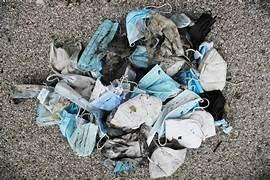Mask: (147, 90, 200, 144), (55, 81, 105, 136), (78, 20, 117, 76), (59, 103, 97, 155), (165, 110, 215, 147), (145, 13, 183, 61), (110, 94, 161, 128), (134, 65, 180, 101), (101, 131, 147, 158), (198, 48, 226, 90), (55, 81, 94, 111), (47, 74, 94, 98), (149, 147, 185, 177), (165, 119, 203, 147), (126, 8, 153, 46), (50, 41, 81, 73), (90, 79, 122, 110), (68, 122, 97, 155), (181, 110, 215, 138), (188, 13, 215, 48), (102, 52, 128, 84), (37, 88, 69, 114), (101, 138, 141, 158), (12, 84, 53, 102), (200, 90, 225, 119), (90, 91, 121, 110), (179, 69, 203, 93), (50, 42, 69, 71), (36, 104, 59, 126), (128, 46, 148, 68), (161, 57, 184, 76), (59, 110, 75, 137), (91, 110, 106, 138), (194, 41, 213, 62), (113, 158, 137, 173), (90, 79, 106, 100), (170, 13, 192, 27), (215, 119, 231, 133)
